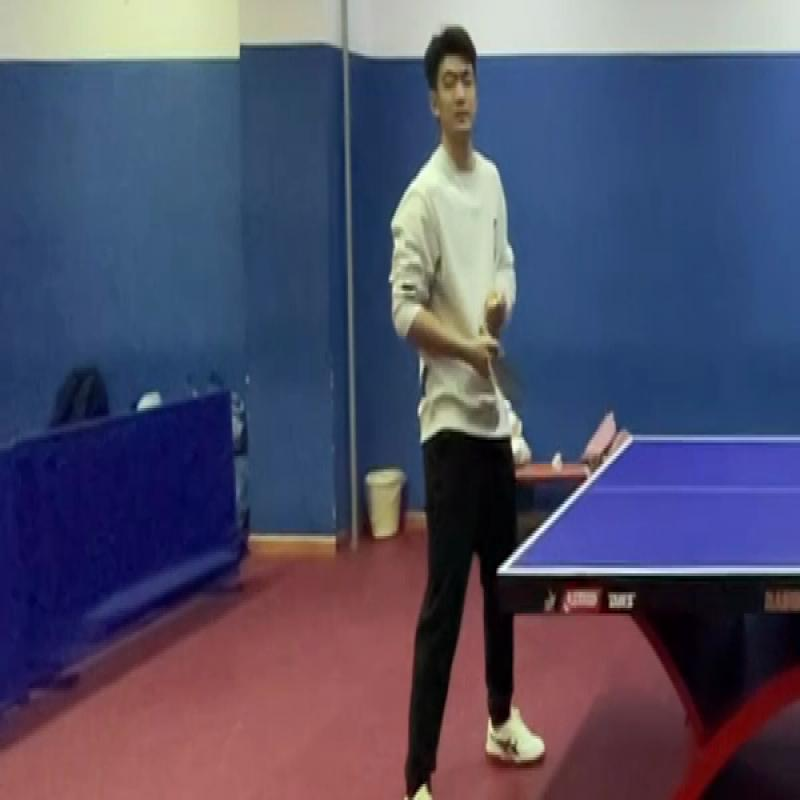bats: (482, 323, 534, 411)
